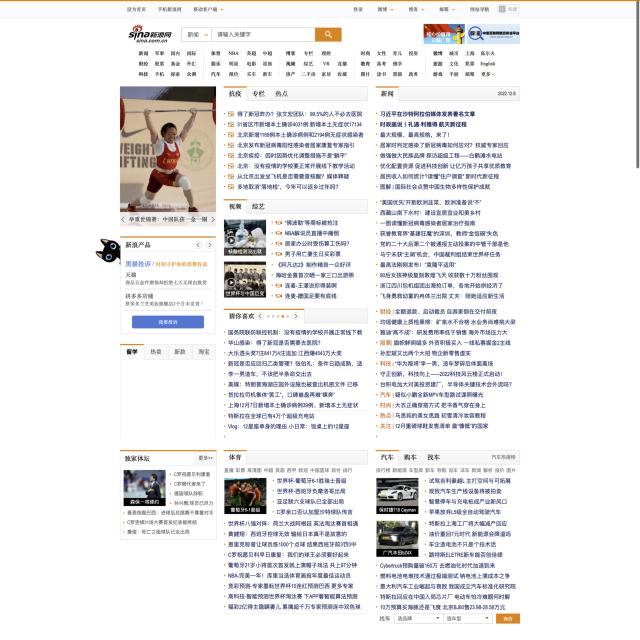input: (180, 27, 344, 42)
logo: (125, 22, 176, 46)
navigation: (136, 48, 504, 82), (125, 4, 524, 15)
